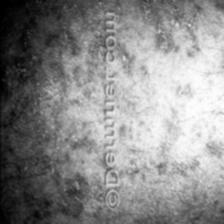Toxin: (4, 0, 98, 220), (122, 0, 224, 154)
